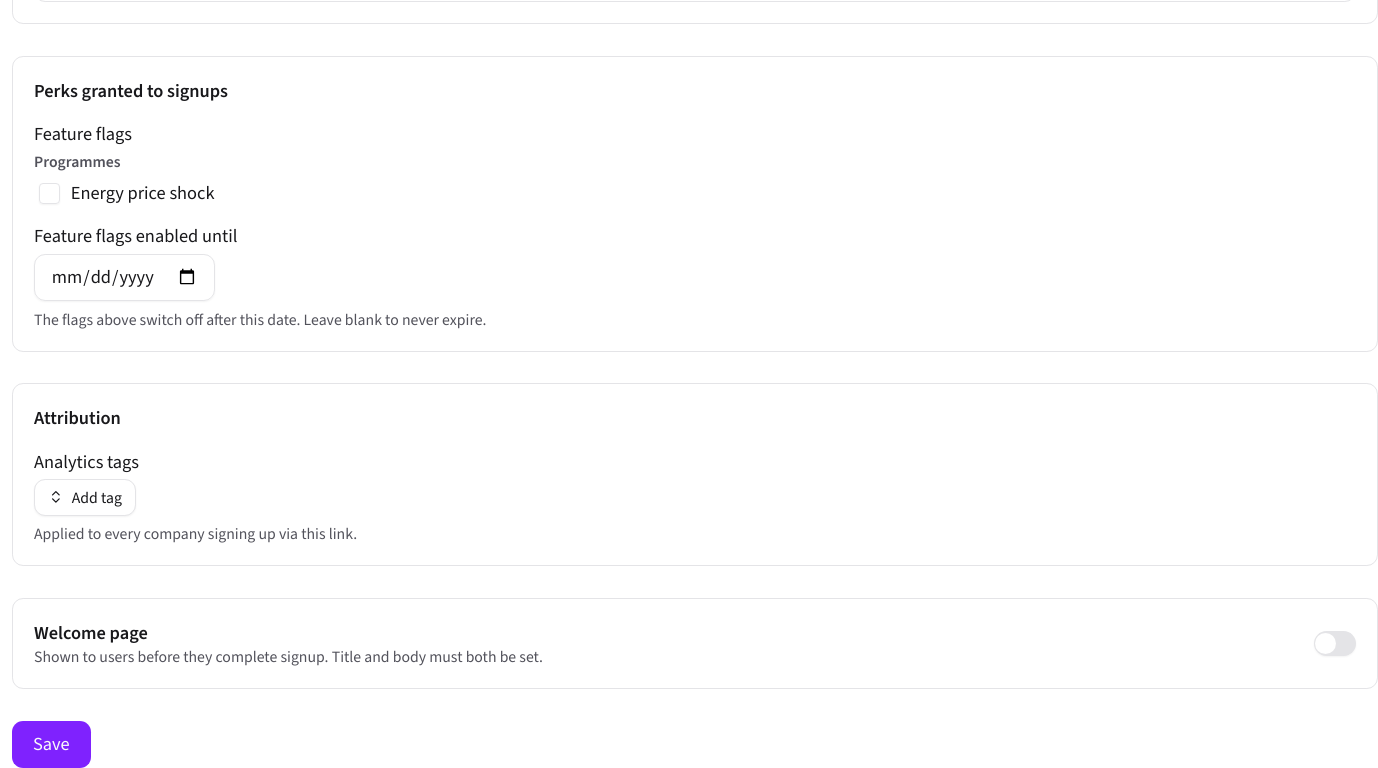
SignupLinkForm — welcome page validation › toggling welcome page back off clears the block even with empty fields
(page scrolled)
Click the switch named "enable welcome page".
click(1335, 643)  # box x1=1314 y1=631 x2=1356 y2=656
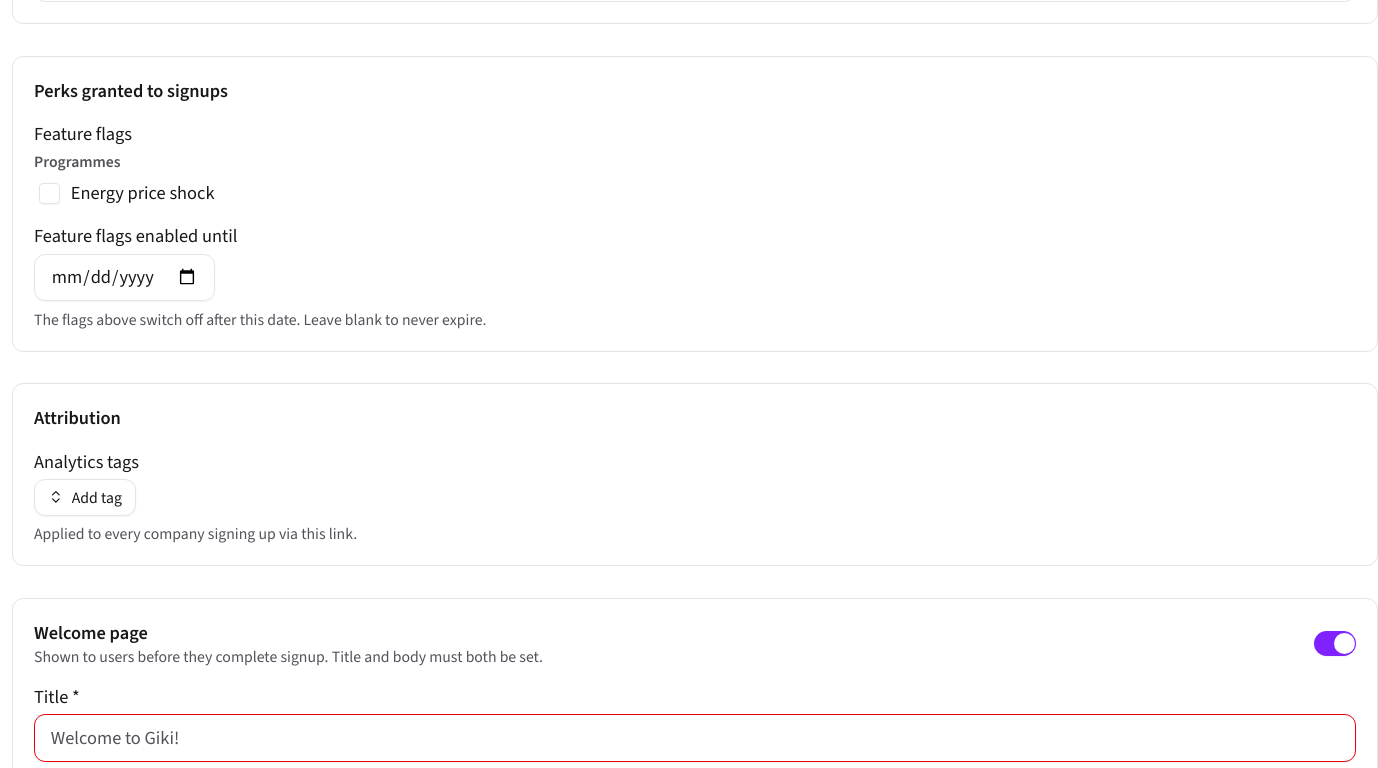
Click the switch named "enable welcome page".
click(1335, 643)  # box x1=1314 y1=631 x2=1356 y2=656
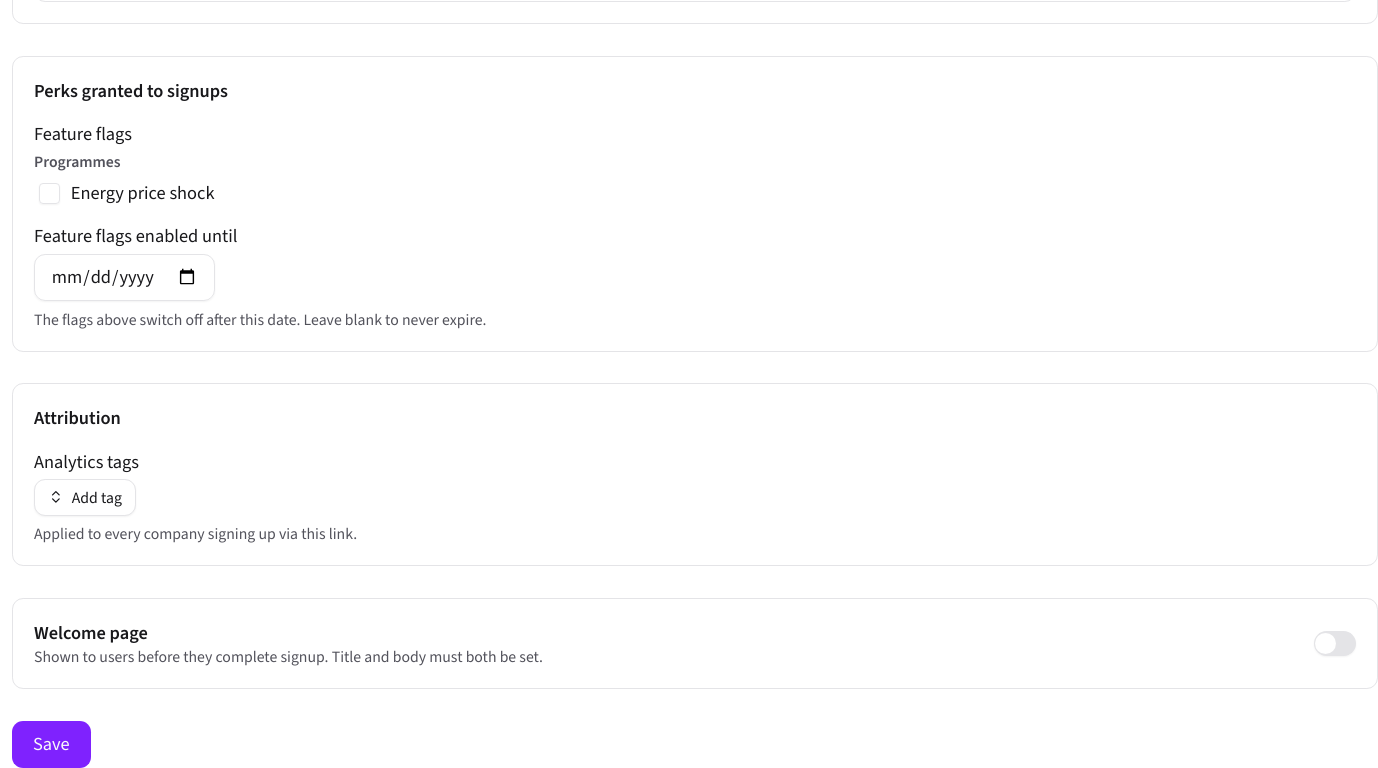
Expected: the button "Save" is enabled, x1=12 y1=721 x2=91 y2=767
